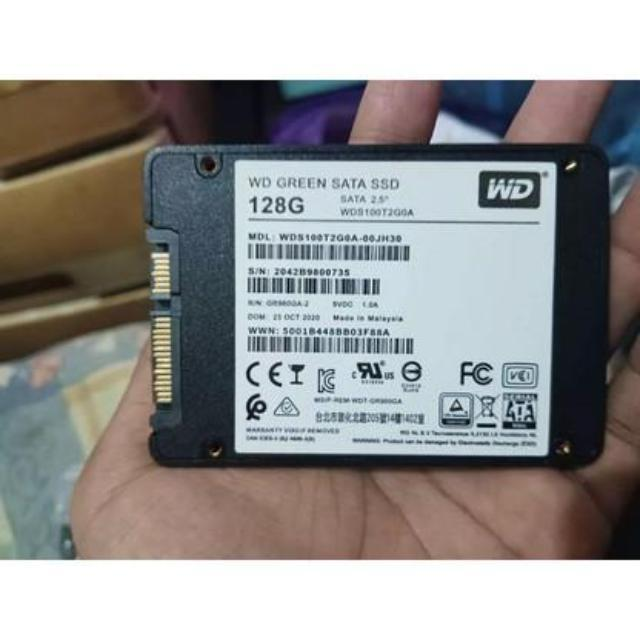DISK: (140, 137, 614, 474)
